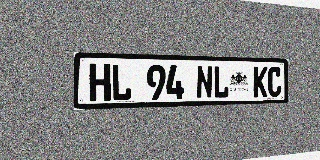4: (166, 65, 184, 100)
9: (147, 65, 166, 100)
C: (268, 67, 282, 97)
H: (89, 64, 111, 102)
K: (253, 66, 268, 97)
L: (111, 64, 131, 101), (213, 66, 229, 98)
N: (196, 65, 213, 99)
